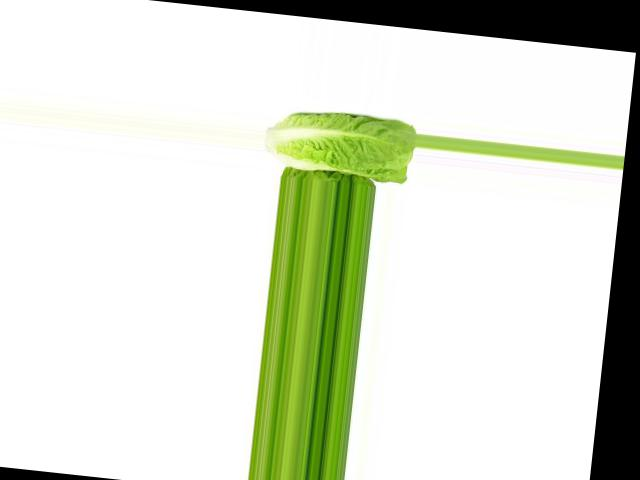lettuce: (262, 95, 420, 182)
